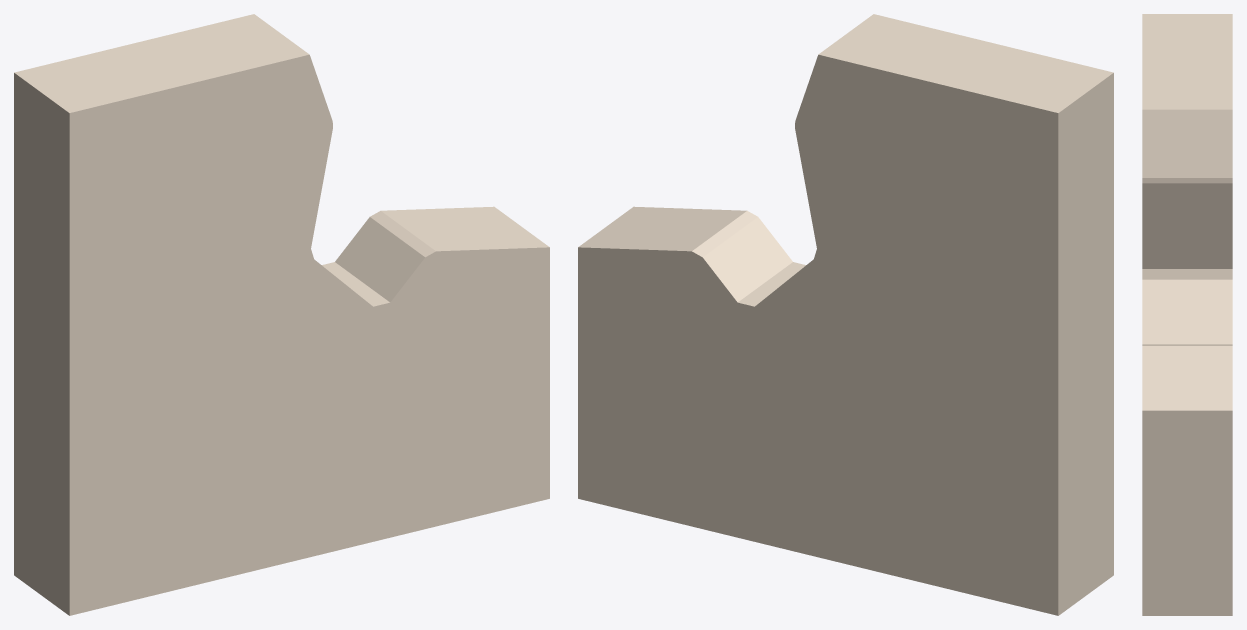
The picture shows the model from 3 angles, left to right: view 1: azimuth 30°, elevation 25°; view 2: azimuth 150°, elevation 25°; view 3: azimuth 270°, elevation 25°; orthographic projection. The views are drawn at different scales.
Parts seen in each view (by area): view 1: object3; view 2: object3; view 3: object3.
Boxes of the visible parts, x1,y1,x2,y2 form: object3: (14, 14, 549, 615); object3: (578, 14, 1113, 615); object3: (1142, 14, 1232, 615).
Size of the model in its own units: 1 by 1 by 0.2.
